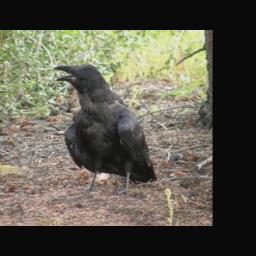Crow: (53, 63, 159, 197)
